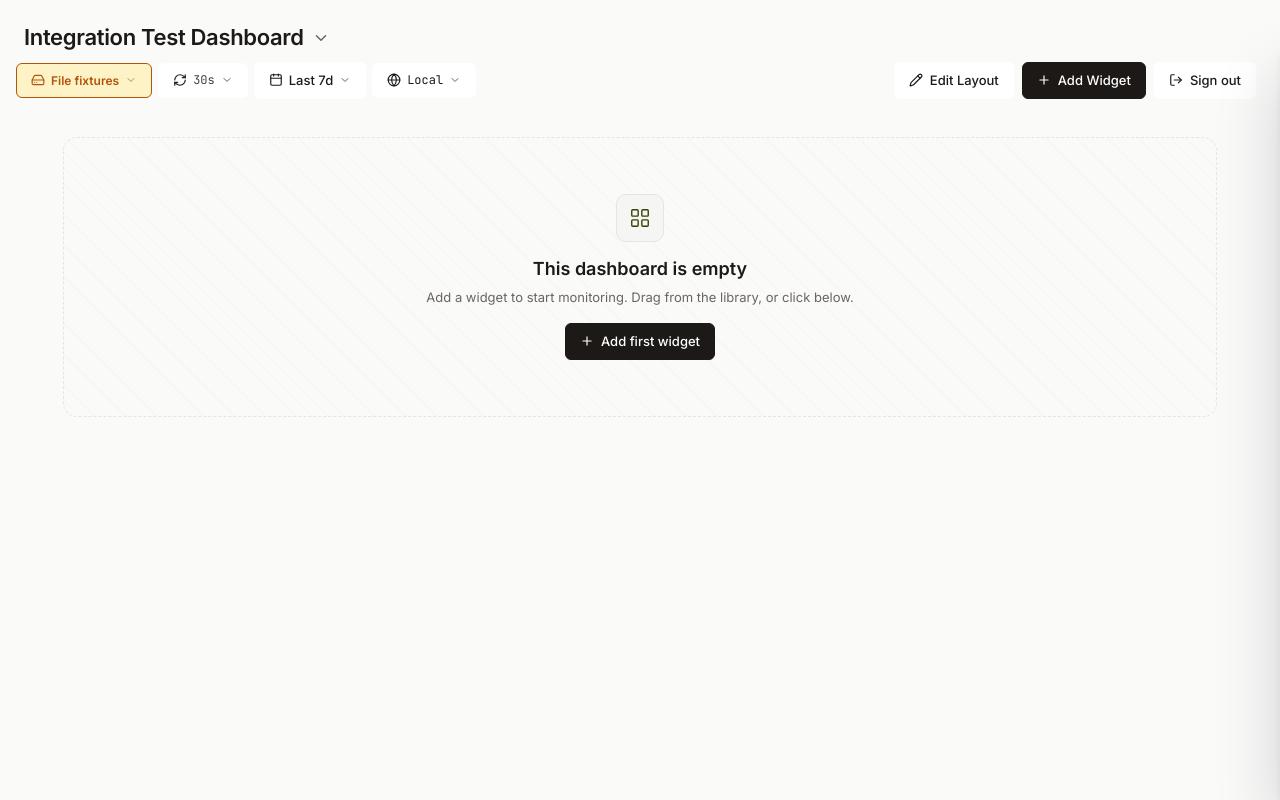
Proof of Life — Part 2 › palette shows only beta-visible components in edit mode
Click the button "Add Widget".
click(1084, 80)  # box x1=1022 y1=62 x2=1146 y2=99
(page scrolled)
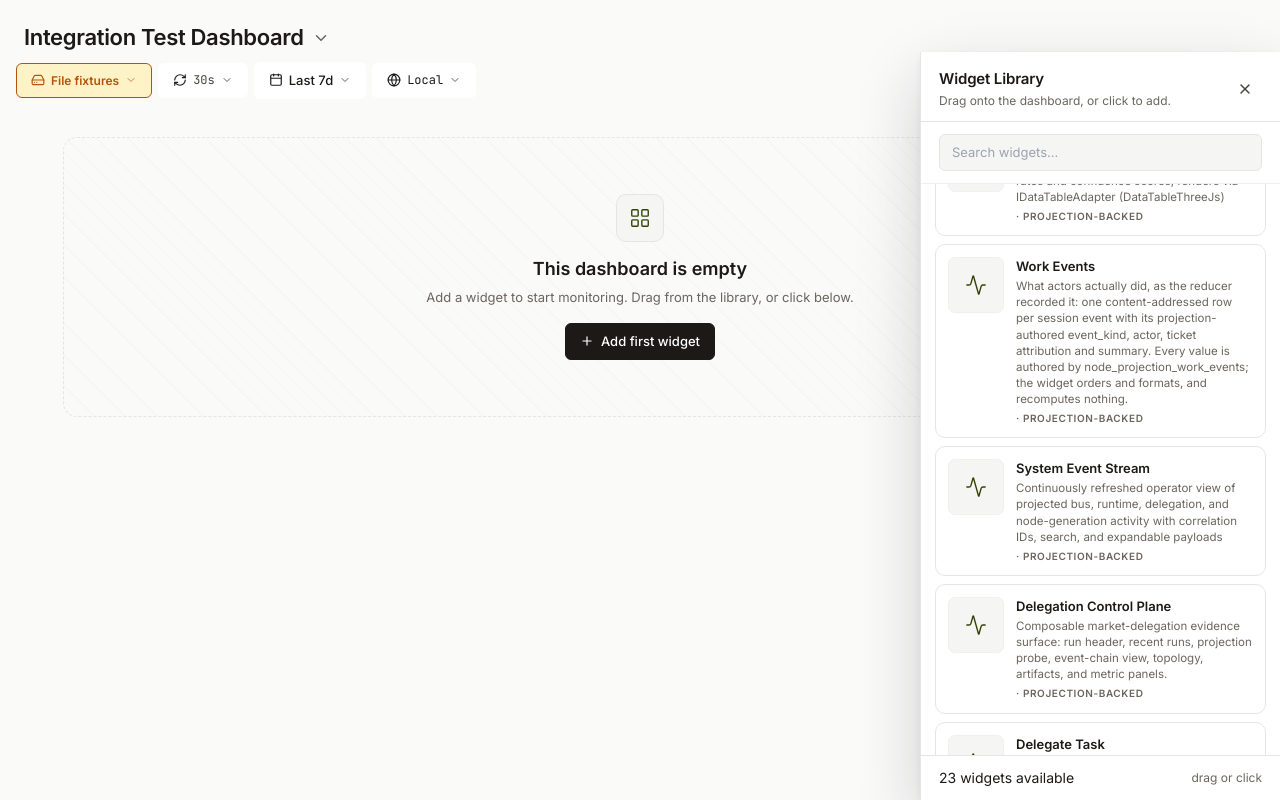
Now the text "Delegate Task" is shown, box x1=1016 y1=736 x2=1105 y2=752
Now the text "System Event Stream" is shown, box x1=1016 y1=460 x2=1150 y2=476
